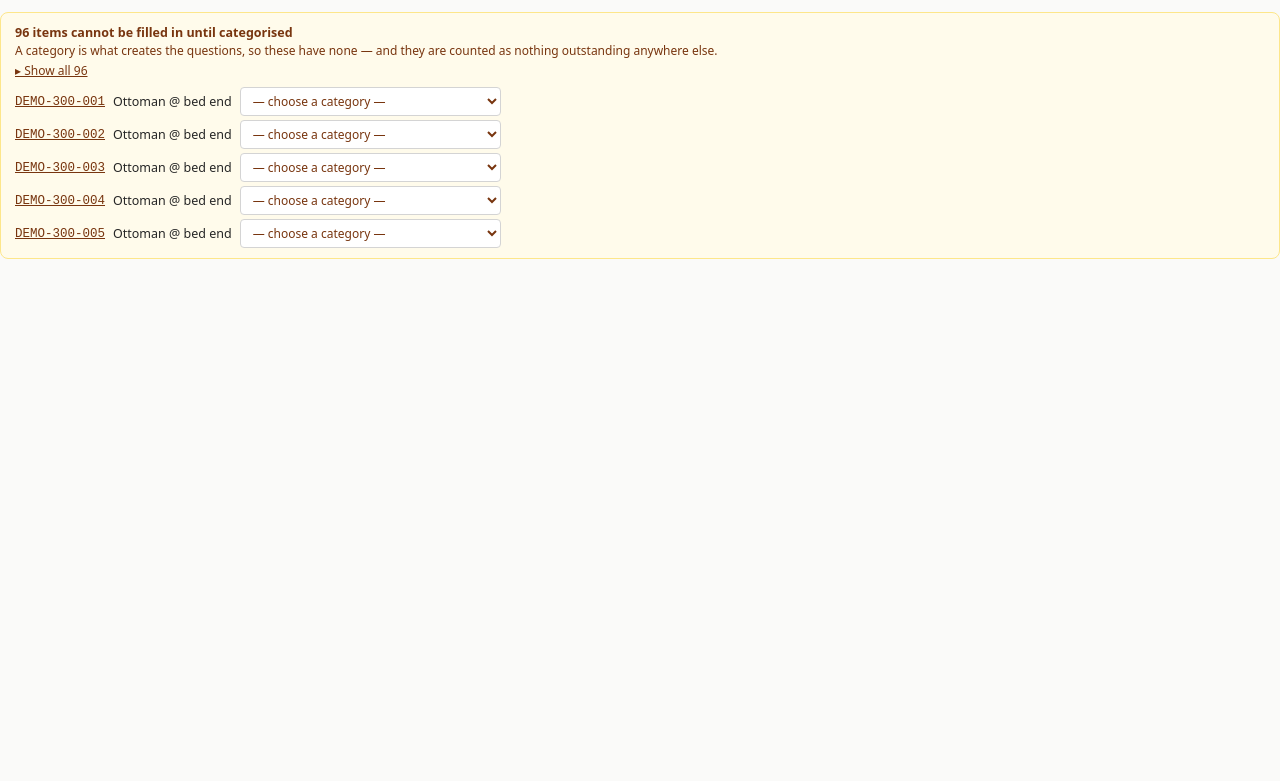
Test: UncategorisedBlock › folds a long list and says how many there are
Expected: the text "96 items cannot be filled in until categorised" is shown, [15,24,292,41]
Expected: the number of dropdowns is 5, [240,87,501,116]; [240,120,501,149]; [240,153,501,182]; [240,186,501,215]; [240,219,501,248]
Click the button "▸ Show all 96": (51, 71) [15,63,88,79]
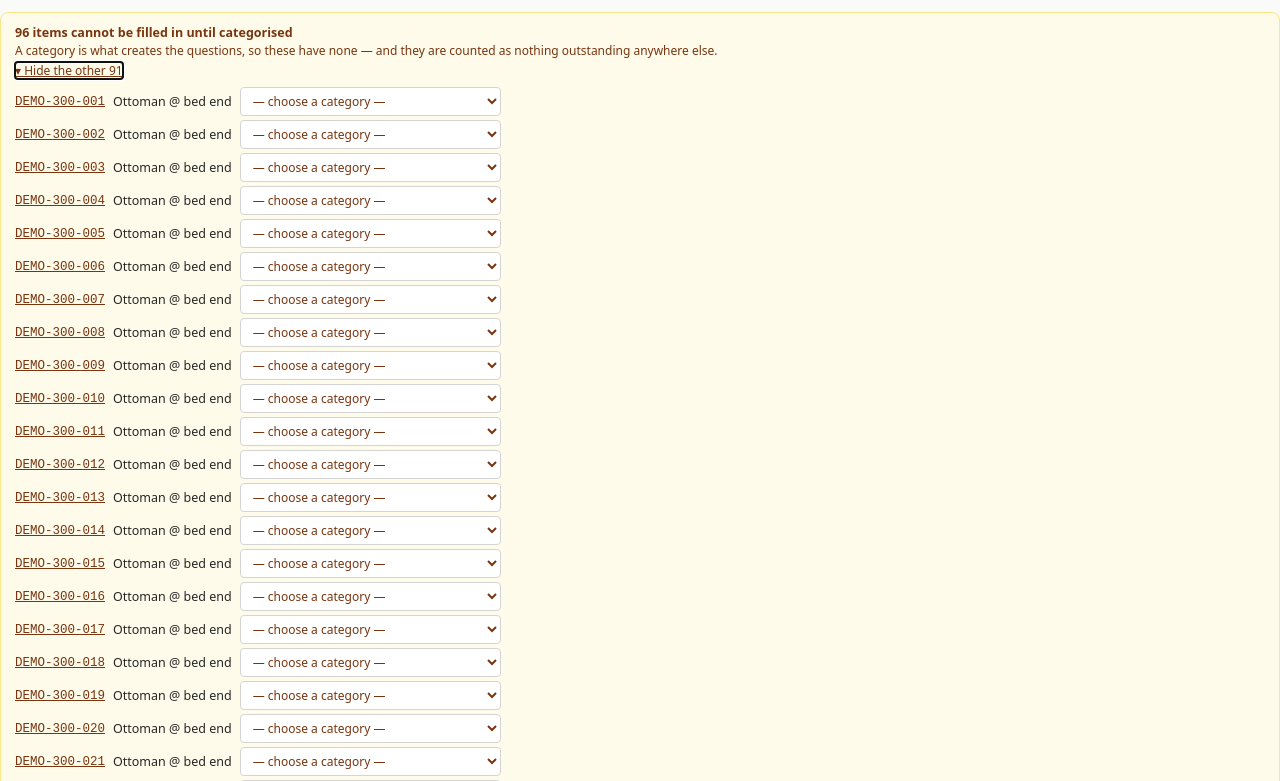
Result: the number of dropdowns is 96
